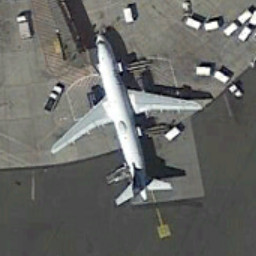Airplane: (47, 31, 212, 211)
